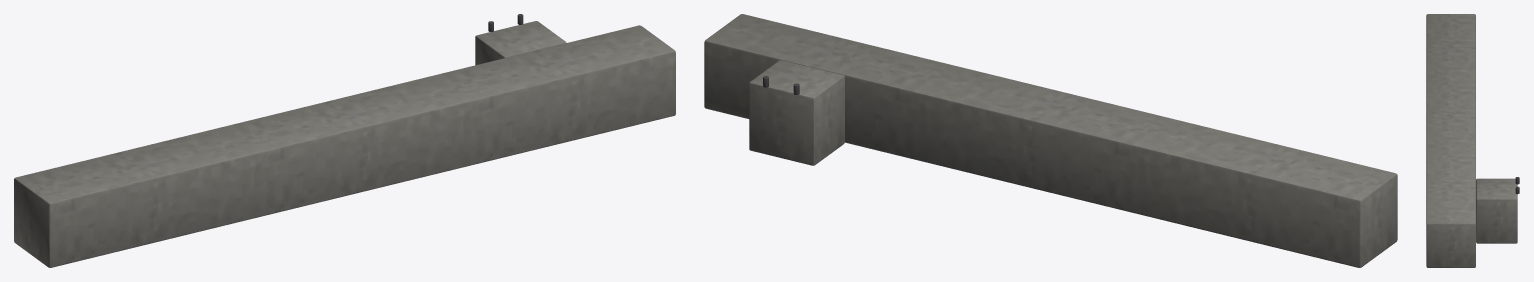
File: EST-PRE-001_lod1.glb
3 renders of one model, left to right at view 1: azimuth 30°, elevation 25°; view 2: azimuth 150°, elevation 25°; view 3: azimuth 270°, elevation 25°, orthographic. The views are drawn at different scales.
Visible parts, largest first — view 1: EST-PRE-001_pilar, EST-PRE-001_consolo; view 2: EST-PRE-001_pilar, EST-PRE-001_consolo; view 3: EST-PRE-001_pilar, EST-PRE-001_consolo.
Boxes of the visible parts, x1,y1,x2,y2 form: EST-PRE-001_pilar: (14, 25, 675, 267); EST-PRE-001_consolo: (475, 21, 566, 65); EST-PRE-001_pilar: (704, 14, 1397, 267); EST-PRE-001_consolo: (749, 60, 844, 165); EST-PRE-001_pilar: (1426, 14, 1475, 267); EST-PRE-001_consolo: (1476, 178, 1517, 243).
Bounding box in the file's own units: 3 × 0.34 × 0.5619.
2 materials, 2 textured.
